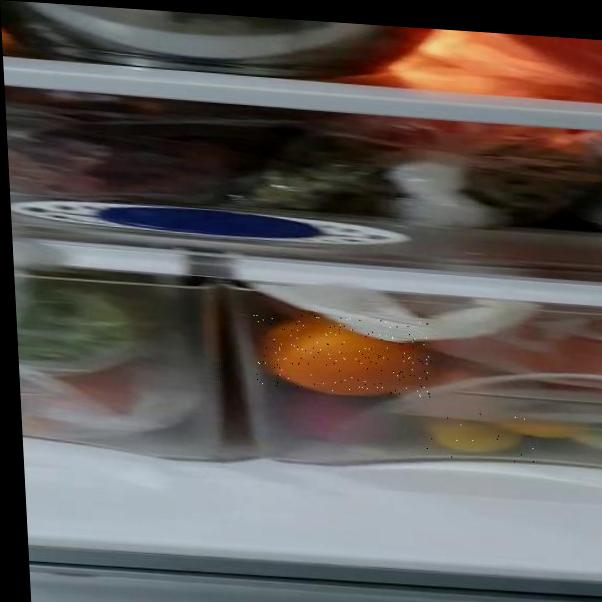lemon: (424, 402, 535, 464)
orange: (254, 311, 433, 398)
